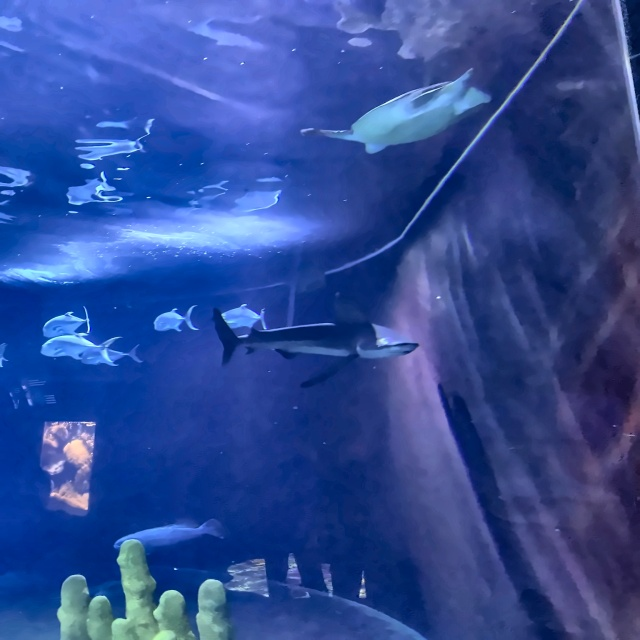fish: (113, 518, 225, 556), (40, 333, 122, 362), (42, 306, 89, 338), (81, 344, 143, 366), (221, 304, 268, 330), (154, 305, 200, 331)
shark: (210, 289, 420, 389)
